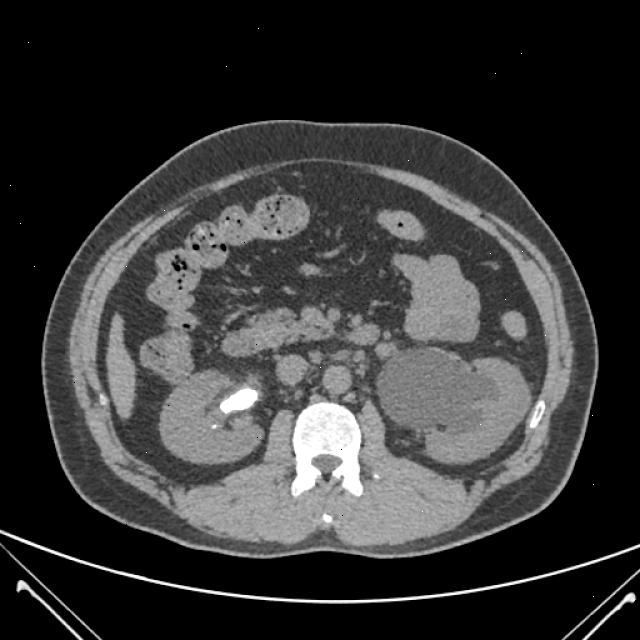kidneystone: (220, 388, 258, 413)
